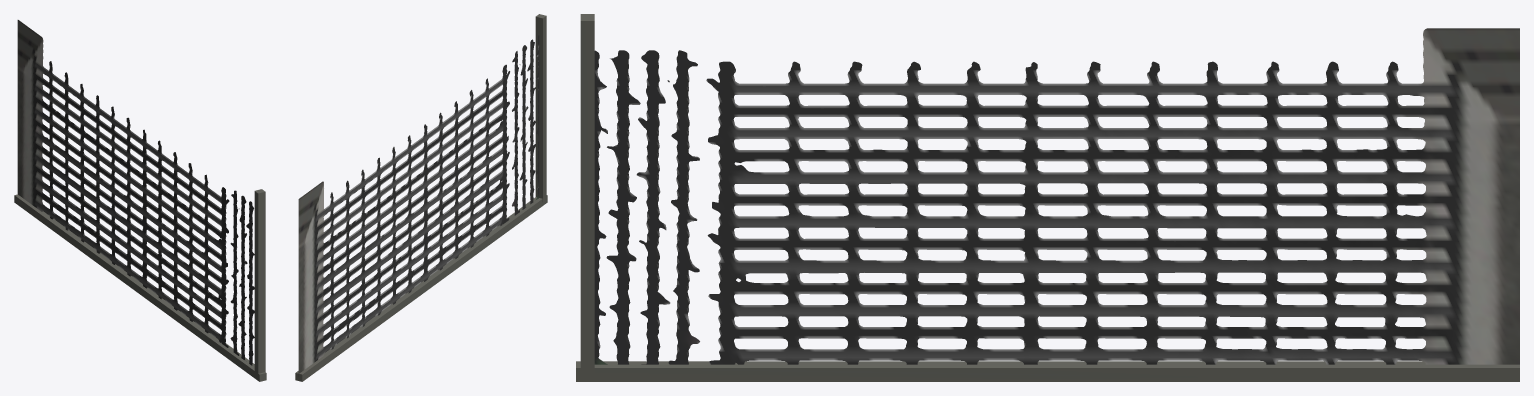
Rendered from pz_fence_png_fencing_01_51.obj.
The picture shows the model from 3 angles, left to right: view 1: azimuth 30°, elevation 25°; view 2: azimuth 150°, elevation 25°; view 3: azimuth 270°, elevation 25°; orthographic projection. The views are drawn at different scales.
Size of the model in its own units: 0.042 by 1.02 by 2.41.
Materials: 1 (1 with a texture image).
